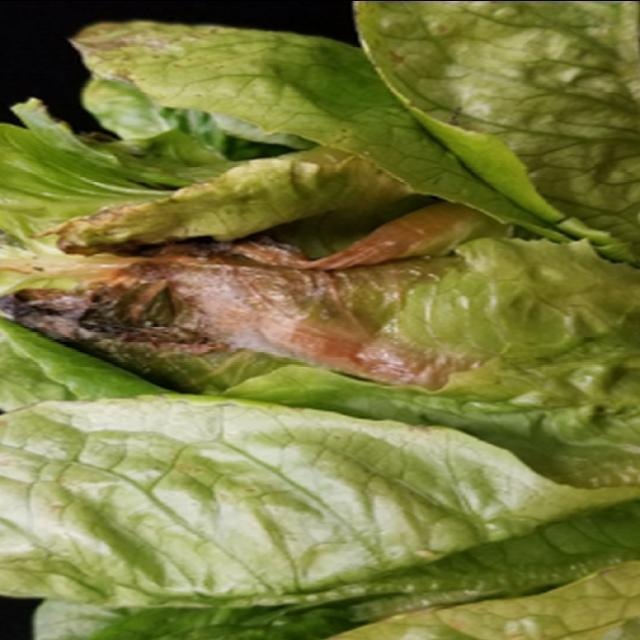Septoria_Blight: (19, 148, 458, 404)
